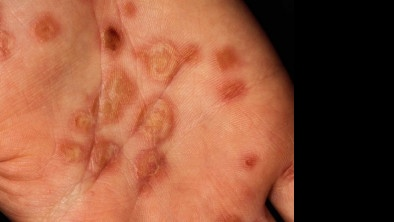SJS-TEN: (32, 0, 274, 222)
